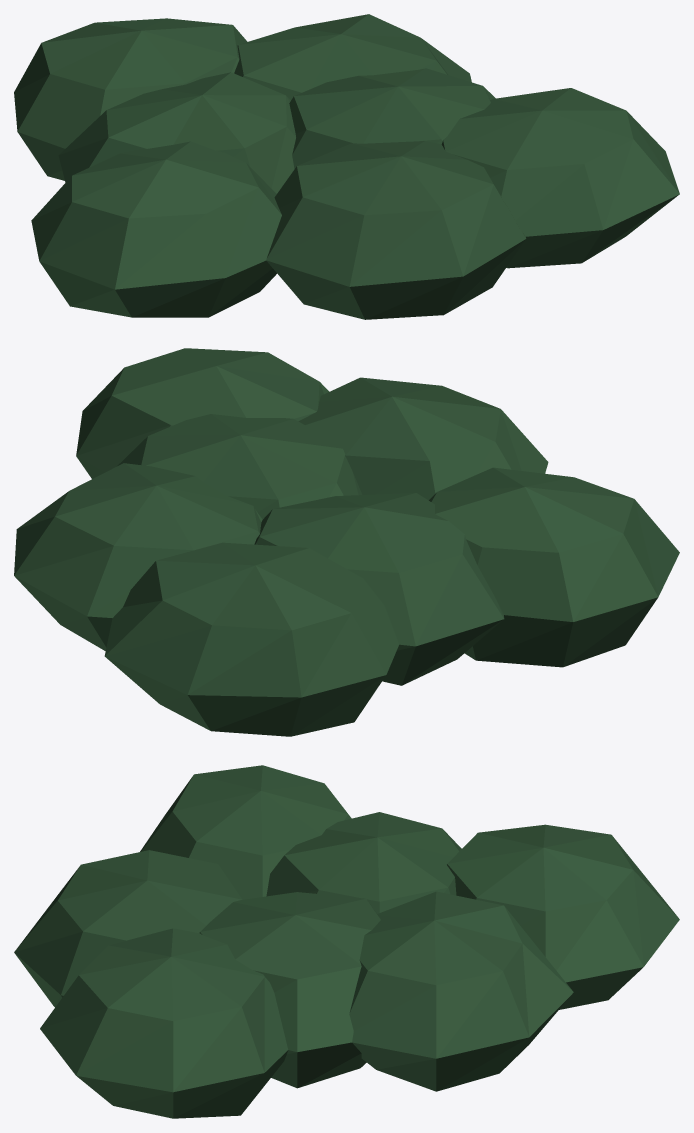
The model's file is Plant_Common_SpreadingShrub_001.glb.
3 renders of one model, top to bottom at view 1: azimuth 30°, elevation 25°; view 2: azimuth 150°, elevation 25°; view 3: azimuth 270°, elevation 25°, orthographic. The views are drawn at different scales.
Visible parts, largest first — view 1: Plant_Common_SpreadingShrub_001; view 2: Plant_Common_SpreadingShrub_001; view 3: Plant_Common_SpreadingShrub_001.
Part boxes in pixels (x1,y1,x2,y2): Plant_Common_SpreadingShrub_001: (14, 14, 679, 319); Plant_Common_SpreadingShrub_001: (14, 348, 679, 736); Plant_Common_SpreadingShrub_001: (14, 765, 679, 1118).
Size of the model in its own units: 2.55 by 0.6888 by 2.47.
